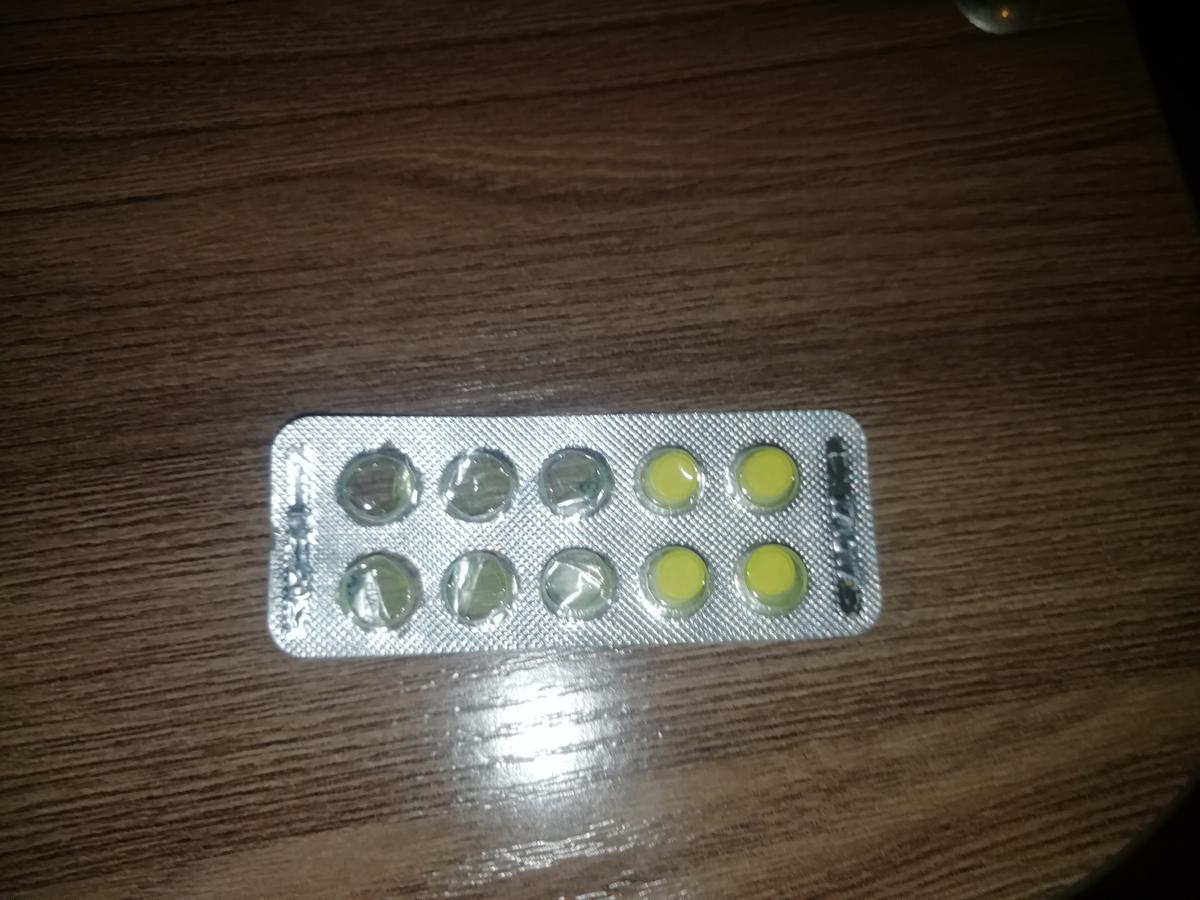tablet: (632, 441, 714, 524), (732, 437, 814, 520), (731, 536, 813, 619), (640, 536, 722, 619)
